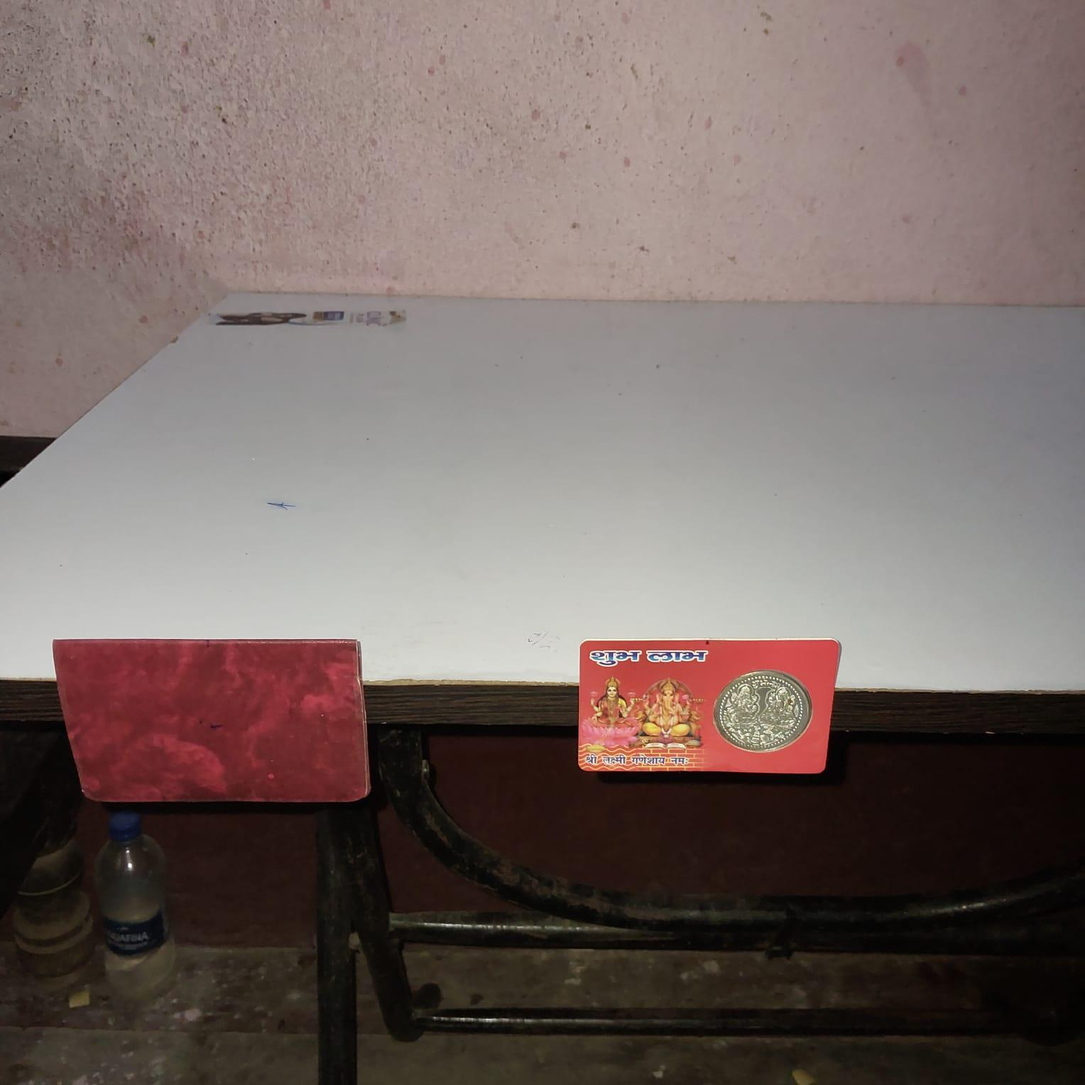blessing_card: (574, 635, 845, 782)
wallet: (50, 634, 381, 805)
